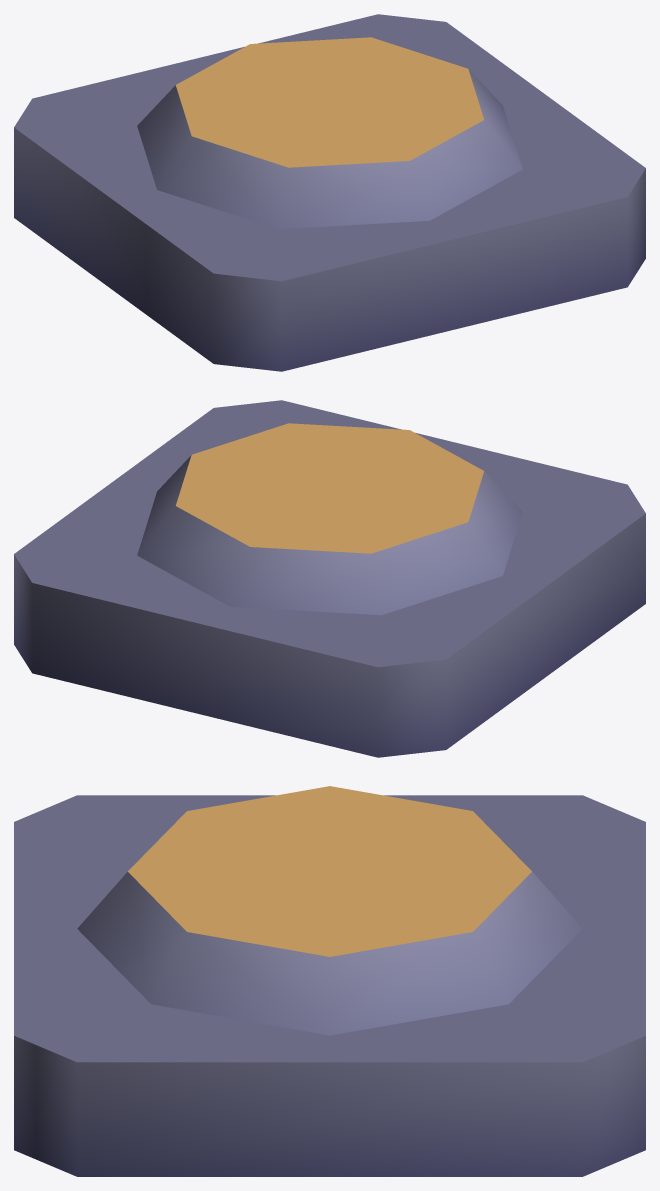
File: button-floor-round.glb
The picture shows the model from 3 angles, top to bottom: view 1: azimuth 30°, elevation 25°; view 2: azimuth 150°, elevation 25°; view 3: azimuth 270°, elevation 25°; orthographic projection. The views are drawn at different scales.
Visible parts, largest first — view 1: button-floor-round, button; view 2: button-floor-round, button; view 3: button-floor-round, button.
Part boxes in pixels (<box>): button-floor-round: <box>14,14,645,371</box>; button: <box>137,37,522,229</box>; button-floor-round: <box>14,400,645,757</box>; button: <box>137,423,522,615</box>; button-floor-round: <box>14,795,645,1176</box>; button: <box>77,786,582,1035</box>.
Size of the model in its own units: 0.5 by 0.15 by 0.5.
